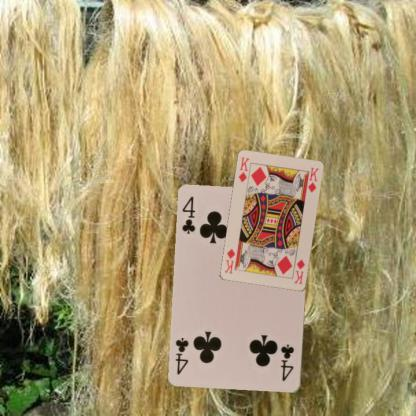4c: (180, 194, 197, 236), (278, 342, 295, 382)
Kd: (292, 257, 306, 286), (236, 155, 250, 184)
